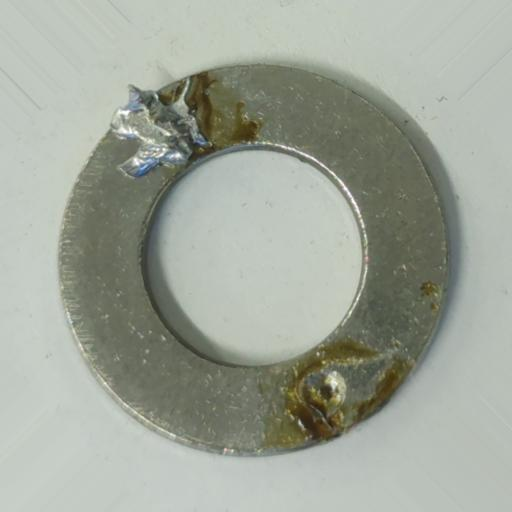excess_material: (109, 84, 206, 176), (281, 368, 348, 439)
